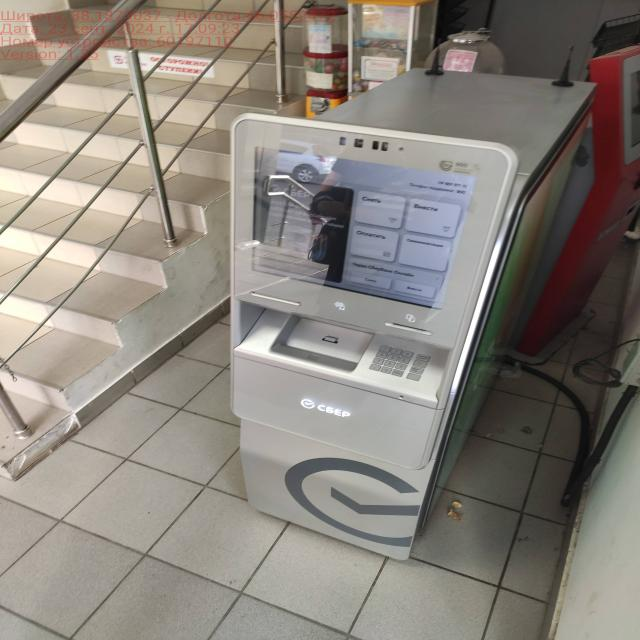bank: (228, 66, 598, 564)
